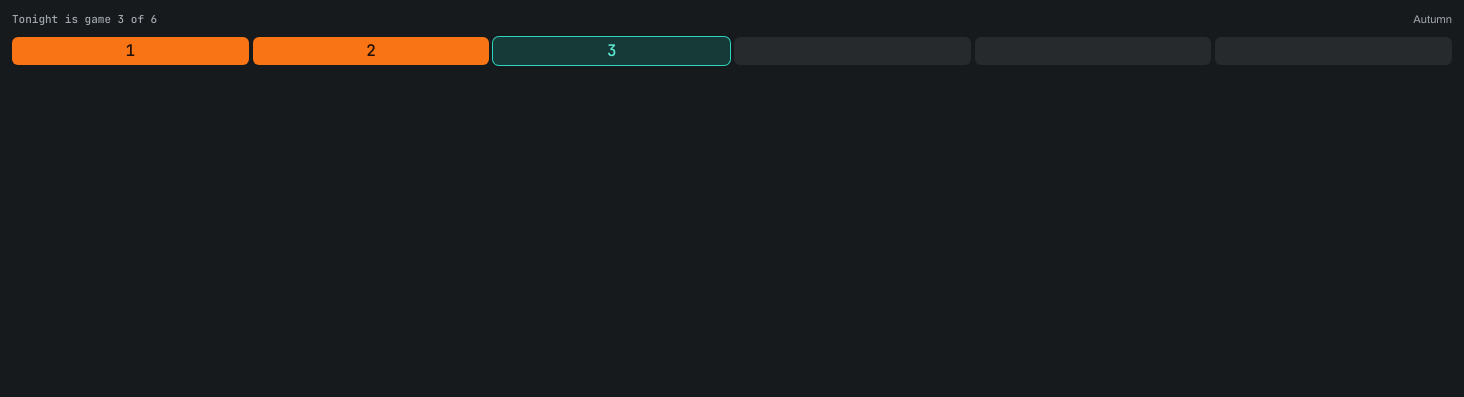
the season game bar › without a choice from the console, the night keeps its own columns
Click the button named "Game 2" at (371, 51), box [253,37,489,65]
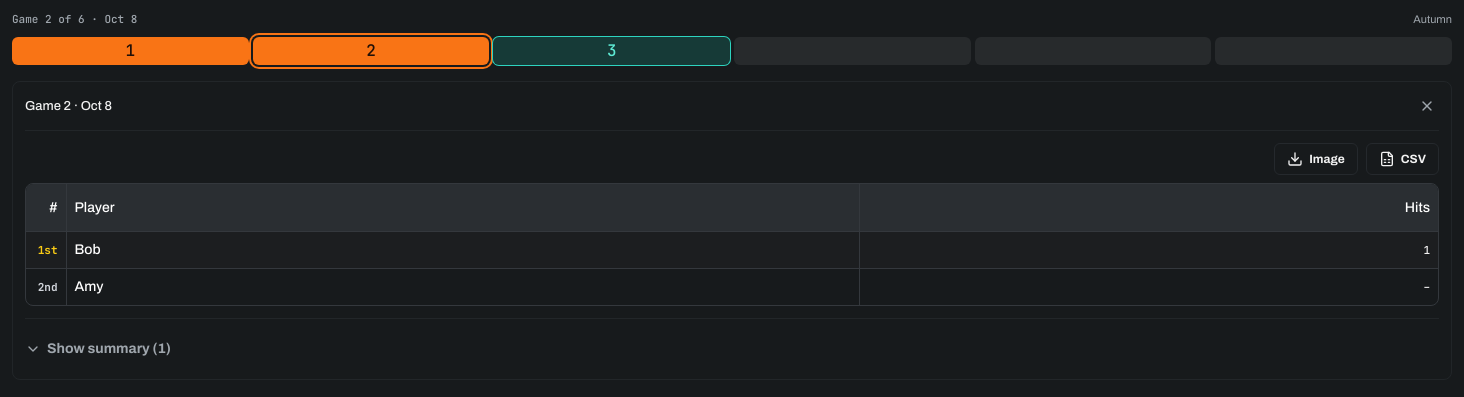
Expected: the table is shown, [26,184,1438,305]
Expected: the column heading "Hits" is shown, [859,184,1438,232]
